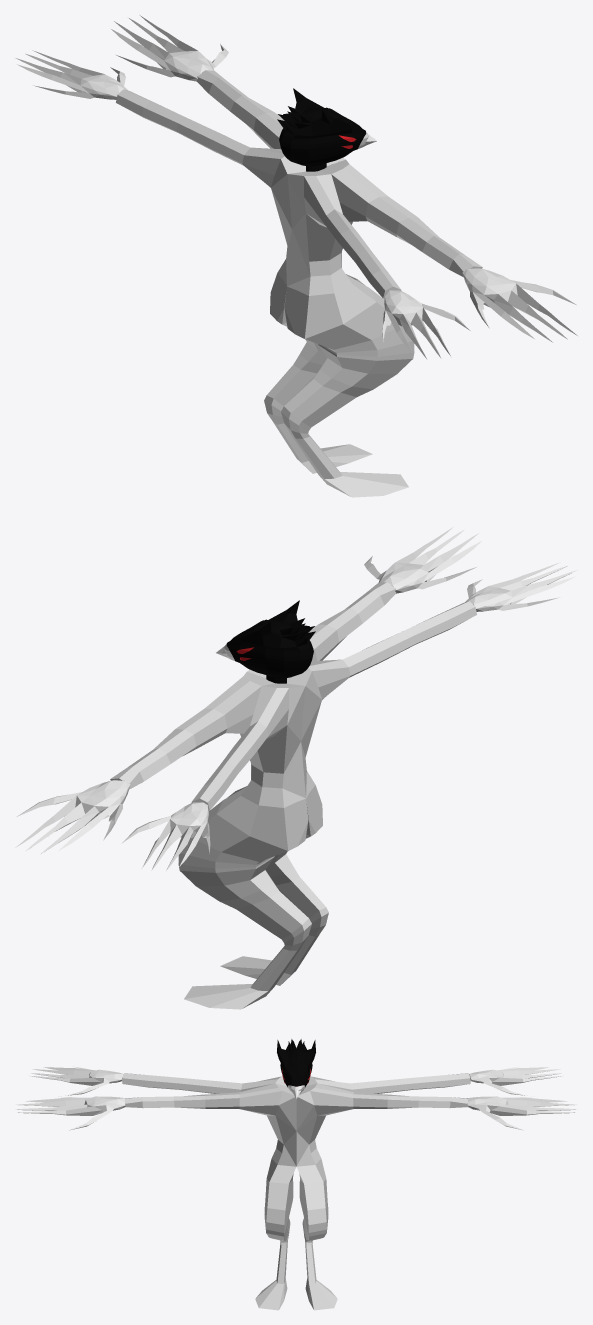
Rendered from akuma1.fbx.
3 views of the same model, one above another, from view 1: azimuth 30°, elevation 25°; view 2: azimuth 150°, elevation 25°; view 3: azimuth 270°, elevation 25° (orthographic). The views are drawn at different scales.
Visible parts, largest first — view 1: Cube, ICO球, ICO球.001, 球; view 2: Cube, ICO球, ICO球.001, 球; view 3: Cube, ICO球, ICO球.001, 球.
Boxes of the visible parts, x1,y1,x2,y2 form: Cube: [116, 70, 482, 497]; ICO球: [111, 15, 577, 342]; ICO球.001: [15, 50, 470, 358]; 球: [277, 88, 376, 171]; Cube: [110, 582, 476, 1009]; ICO球: [15, 527, 481, 854]; ICO球.001: [122, 562, 577, 870]; 球: [216, 600, 315, 683]; Cube: [122, 1073, 470, 1310]; ICO球: [15, 1096, 577, 1130]; ICO球.001: [29, 1066, 563, 1095]; 球: [277, 1039, 315, 1098].
Bounding box in the file's own units: 427 × 820 × 1705.
